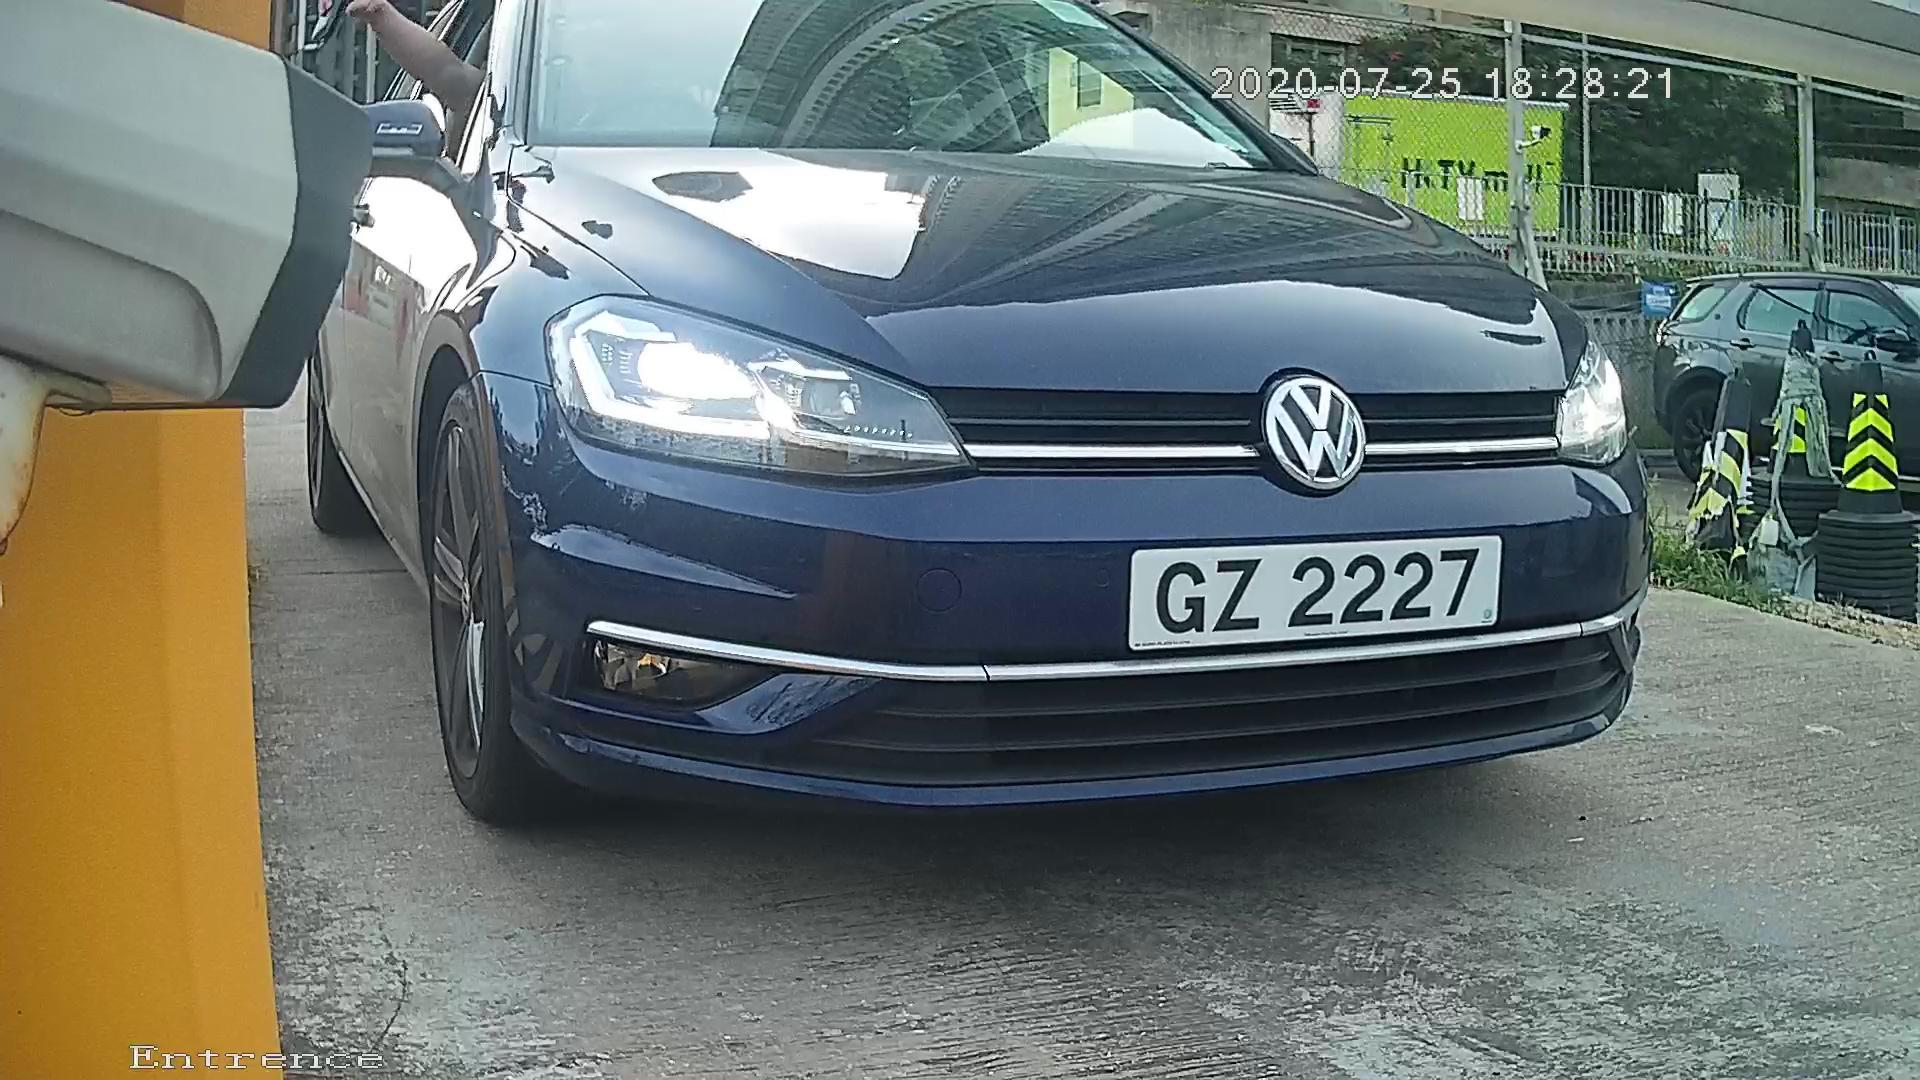privatecar: (232, 1, 1809, 868)
